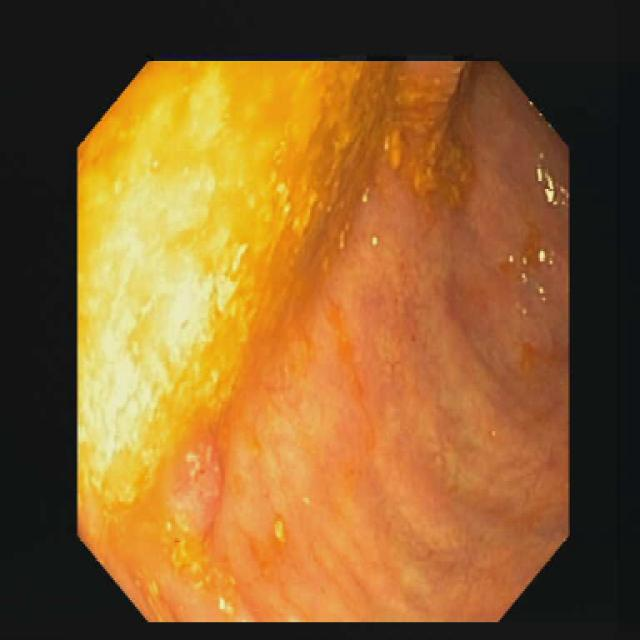tumor: (173, 427, 223, 538)
